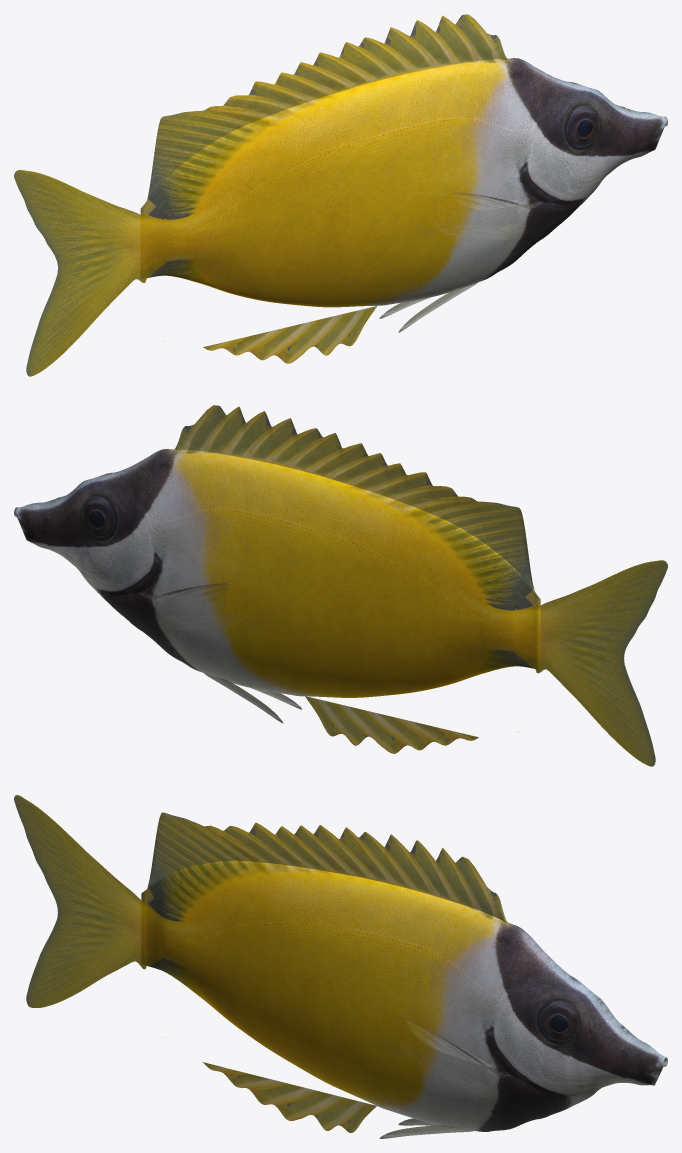
The model's file is vulpinus-L1LNhPqb.glb.
3 views of the same model, one above another, from view 1: azimuth 30°, elevation 25°; view 2: azimuth 150°, elevation 25°; view 3: azimuth 330°, elevation 25° (orthographic).
Visible parts, largest first — view 1: vulpinus__body, vulpinus__fin_1, vulpinus__fin_0, vulpinus__fin_2, vulpinus__gill_1, vulpinus__pectoral_1, vulpinus__eye_1, vulpinus__pelvic_1; view 2: vulpinus__body, vulpinus__fin_1, vulpinus__fin_0, vulpinus__fin_2, vulpinus__gill_-1, vulpinus__pectoral_-1, vulpinus__eye_-1, vulpinus__pelvic_-1; view 3: vulpinus__body, vulpinus__fin_1, vulpinus__fin_0, vulpinus__fin_2, vulpinus__gill_1, vulpinus__pectoral_1, vulpinus__eye_1, vulpinus__pelvic_1.
Boxes of the visible parts, x1,y1,x2,y2 form: vulpinus__body: (140,58,667,307); vulpinus__fin_1: (146,14,507,203); vulpinus__fin_0: (14,170,147,376); vulpinus__fin_2: (203,305,377,363); vulpinus__gill_1: (524,136,574,213); vulpinus__pectoral_1: (453,192,525,210); vulpinus__eye_1: (571,107,594,138); vulpinus__pelvic_1: (398,282,477,332); vulpinus__body: (14,449,540,697); vulpinus__fin_1: (174,405,535,592); vulpinus__fin_0: (535,560,667,766); vulpinus__fin_2: (305,696,478,753); vulpinus__gill_-1: (107,527,156,603); vulpinus__pectoral_-1: (156,583,228,601); vulpinus__eye_-1: (87,498,110,529); vulpinus__pelvic_-1: (204,673,283,723); vulpinus__body: (141,860,667,1131); vulpinus__fin_1: (146,812,507,923); vulpinus__fin_0: (14,795,147,1007); vulpinus__fin_2: (203,1062,376,1132); vulpinus__gill_1: (493,1011,544,1085); vulpinus__pectoral_1: (407,1019,492,1066); vulpinus__eye_1: (545,1002,573,1033); vulpinus__pelvic_1: (379,1125,473,1138).
Bounding box in the file's own units: 1.25 × 0.5731 × 0.1543.
Materials: 5 (5 with a texture image).
